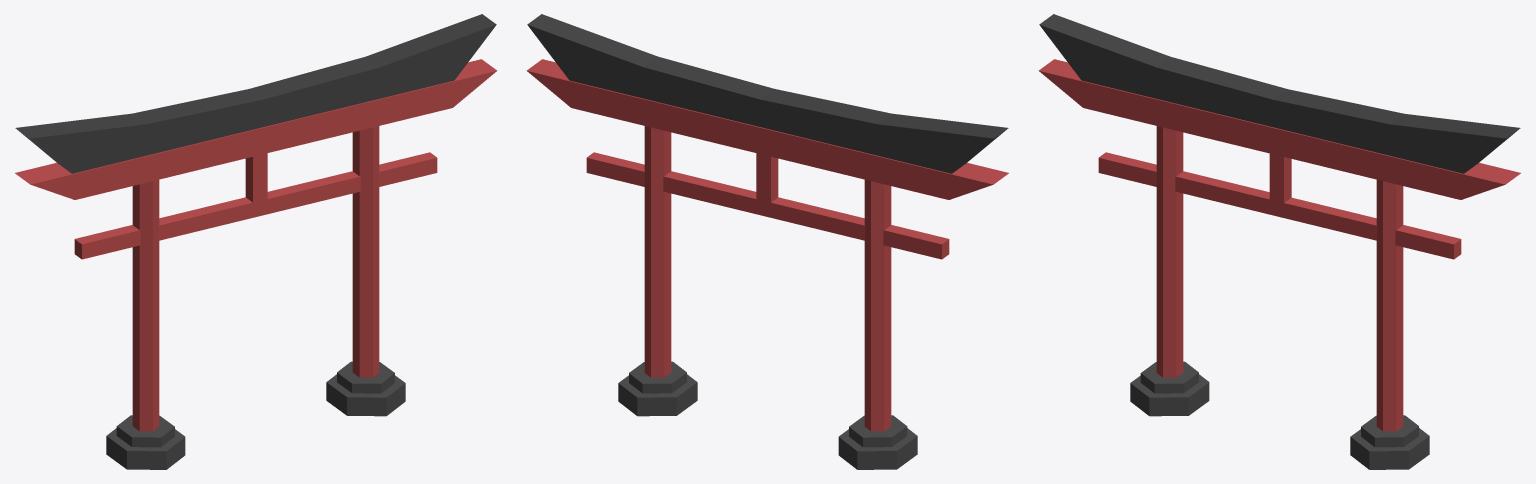
File: Tori Gate.fbx
3 views of the same model, side by side, from view 1: azimuth 30°, elevation 25°; view 2: azimuth 150°, elevation 25°; view 3: azimuth 330°, elevation 25° (orthographic).
Visible parts, largest first — view 1: Cylinder; view 2: Cylinder; view 3: Cylinder.
Boxes of the visible parts, box(x1,y1,x2,y2) form: Cylinder: box(15, 14, 497, 469); Cylinder: box(526, 14, 1008, 469); Cylinder: box(1038, 14, 1520, 469).
Size of the model in its own units: 1458 by 1049 by 223.
